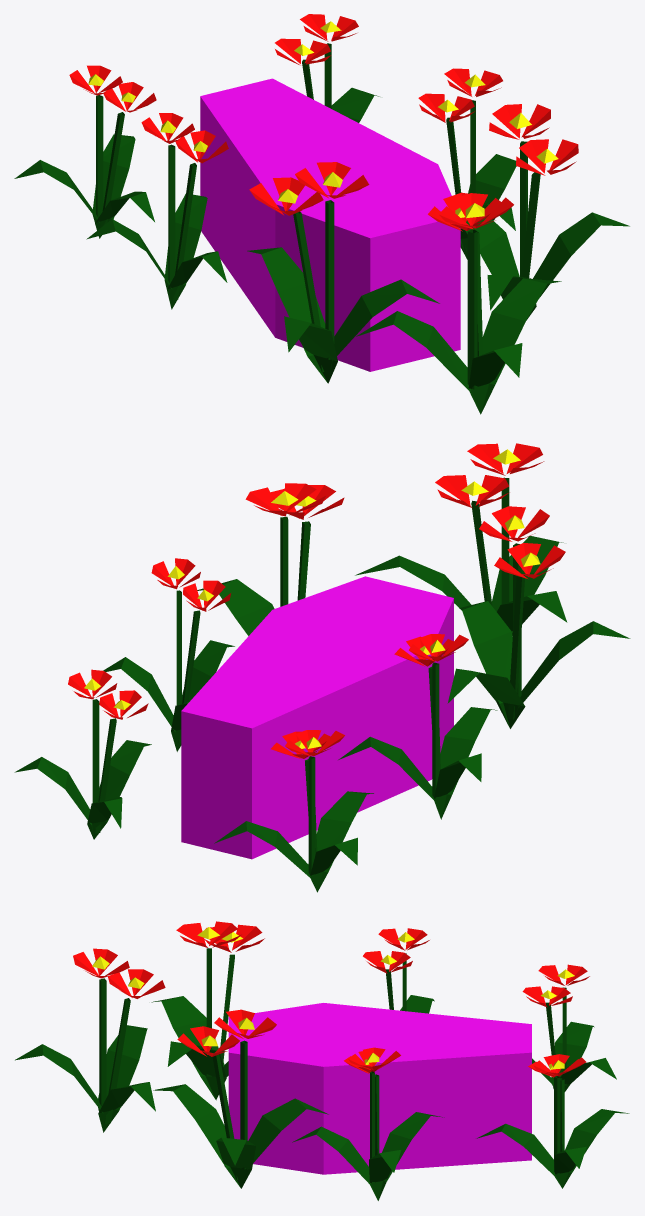
The model's file is elventomb.obj.
3 views of the same model, one above another, from view 1: azimuth 30°, elevation 25°; view 2: azimuth 150°, elevation 25°; view 3: azimuth 270°, elevation 25° (orthographic). The views are drawn at different scales.
Visible parts, largest first — view 1: elventomb_back; view 2: elventomb_back; view 3: elventomb_back.
Boxes of the visible parts, left/top/right/bottom form: elventomb_back: left=14, top=14, right=629, bottom=414; elventomb_back: left=14, top=443, right=630, bottom=892; elventomb_back: left=15, top=921, right=629, bottom=1200.
Size of the model in its own units: 3.72 by 1.9 by 5.86.
